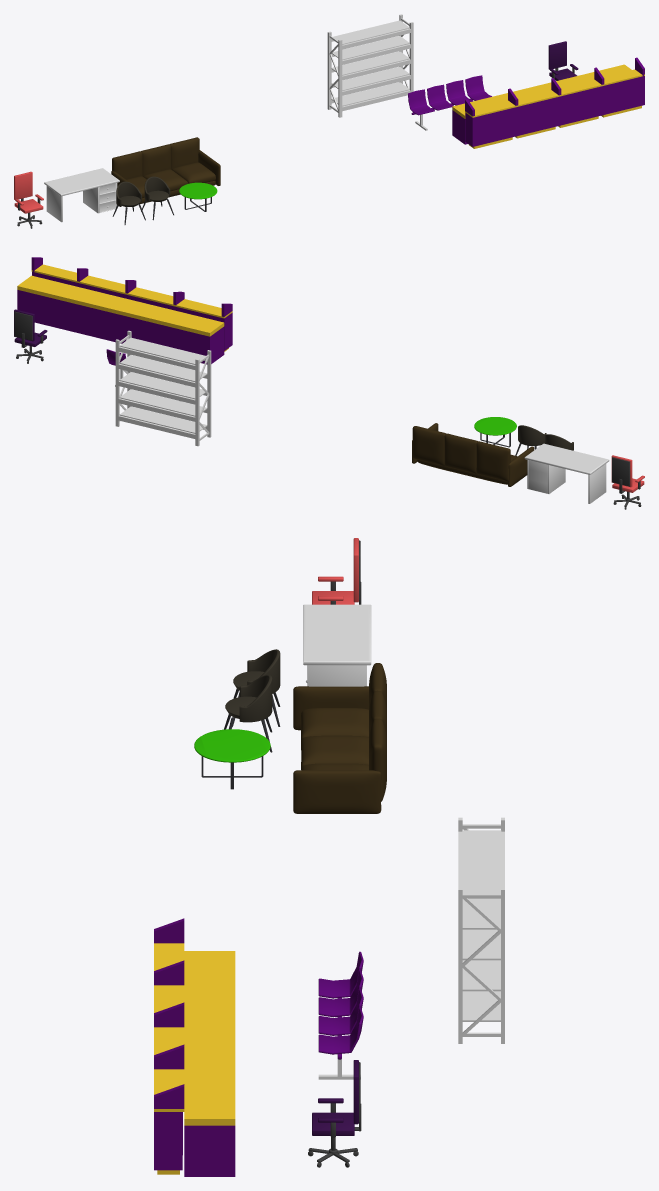
The model's file is sedia_caffe.fbx.
3 renders of one model, top to bottom at view 1: azimuth 30°, elevation 25°; view 2: azimuth 150°, elevation 25°; view 3: azimuth 270°, elevation 25°, orthographic. The views are drawn at different scales.
Parts seen in each view (by area): view 1: Bancone_Cliente, Scaffale, Sofa, Scrivania_capo, Sedia_Fila, Scrivania_OP, Sedia_capo, Sedia_Op, sedia_cafe 2, tavolino, sedia_cafe; view 2: Scrivania_OP, Scaffale, Sofa, Bancone_Cliente, Scrivania_capo, Sedia_capo, Sedia_Op, tavolino, sedia_cafe 2; view 3: Sofa, Scrivania_OP, Scaffale, Bancone_Cliente, Scrivania_capo, Sedia_Fila, tavolino, Sedia_Op, sedia_cafe 2, Sedia_capo, sedia_cafe.
Part boxes in pixels (box(x1,y1,x2,y2)): Bancone_Cliente: box(465, 57, 644, 148); Scaffale: box(327, 14, 413, 117); Sofa: box(111, 137, 220, 206); Scrivania_capo: box(44, 168, 119, 222); Sedia_Fila: box(408, 75, 491, 115); Scrivania_OP: box(452, 64, 631, 144); Sedia_capo: box(14, 171, 43, 228); Sedia_Op: box(548, 41, 578, 80); sedia_cafe 2: box(141, 176, 173, 220); tavolino: box(179, 182, 217, 211); sedia_cafe: box(112, 181, 145, 224); Scrivania_OP: box(17, 275, 224, 364); Scaffale: box(115, 330, 211, 446); Sofa: box(412, 423, 534, 486); Bancone_Cliente: box(31, 257, 232, 351); Scrivania_capo: box(524, 443, 609, 503); Sedia_capo: box(611, 455, 644, 509); Sedia_Op: box(14, 309, 47, 363); tavolino: box(474, 417, 516, 447); sedia_cafe 2: box(515, 425, 546, 455); Sofa: box(293, 663, 386, 813); Scrivania_OP: box(184, 951, 235, 1176); Scaffale: box(458, 817, 504, 1043); Bancone_Cliente: box(154, 918, 184, 1174); Scrivania_capo: box(303, 604, 371, 686); Sedia_Fila: box(318, 951, 363, 1059); tavolino: box(194, 729, 270, 789); Sedia_Op: box(308, 1060, 361, 1167); sedia_cafe 2: box(224, 675, 272, 752); Sedia_capo: box(312, 538, 361, 604); sedia_cafe: box(232, 649, 280, 726).
Bounding box in the file's own units: 1583 × 207 × 413.
